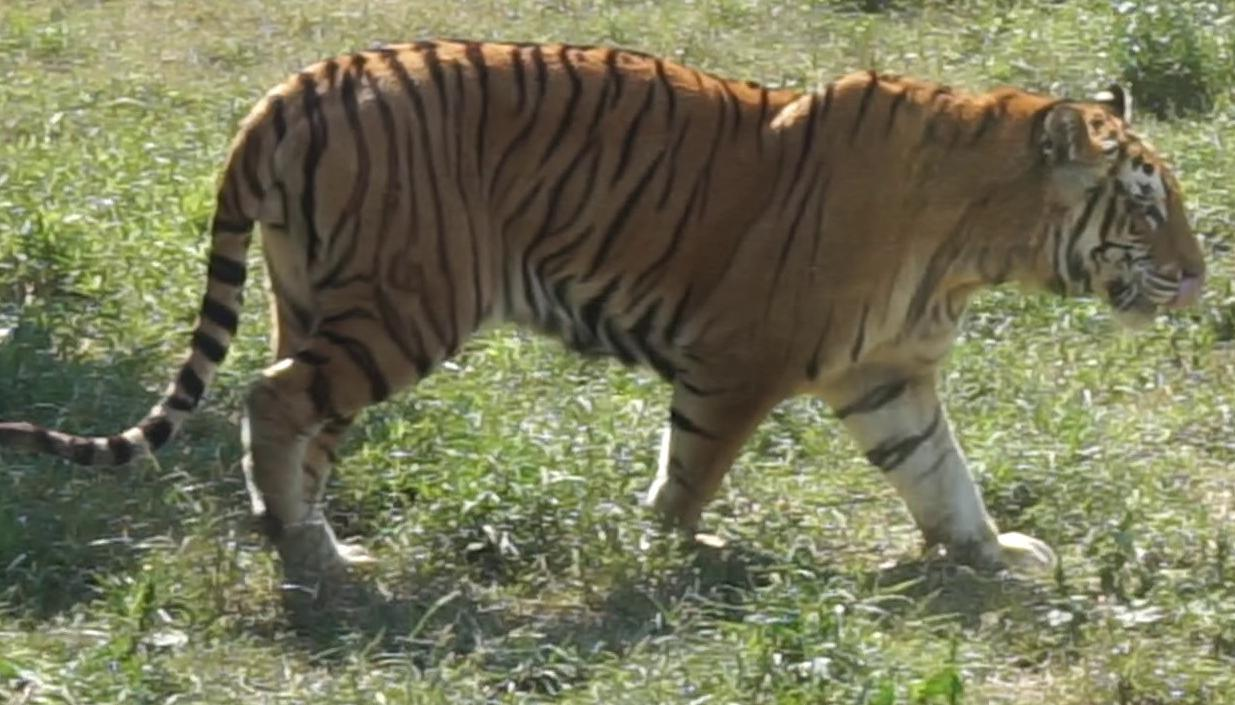tiger: (0, 40, 1205, 578)
